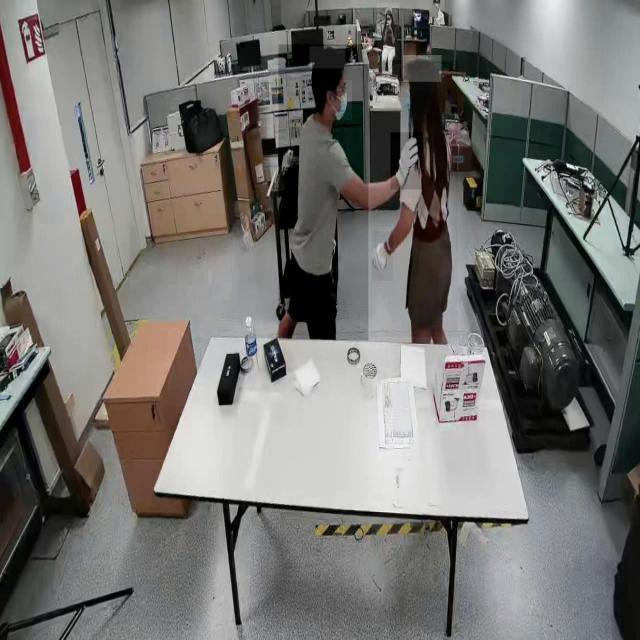gloves: (390, 133, 422, 190), (372, 231, 394, 282)
